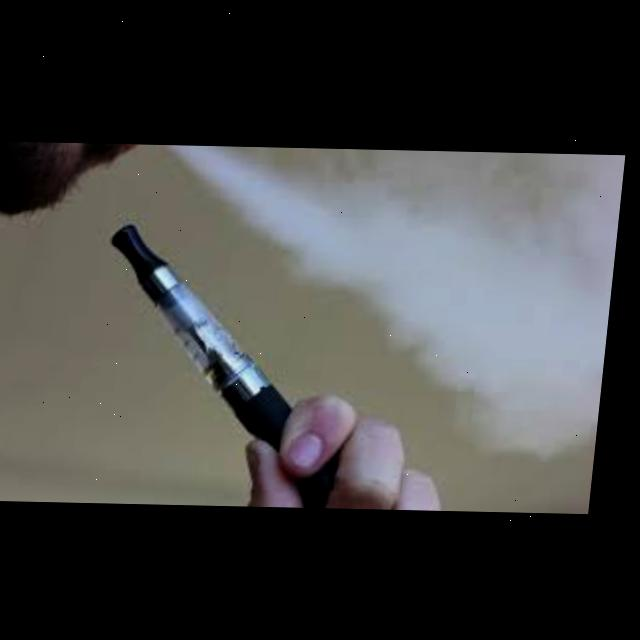vape: (98, 221, 315, 437)
